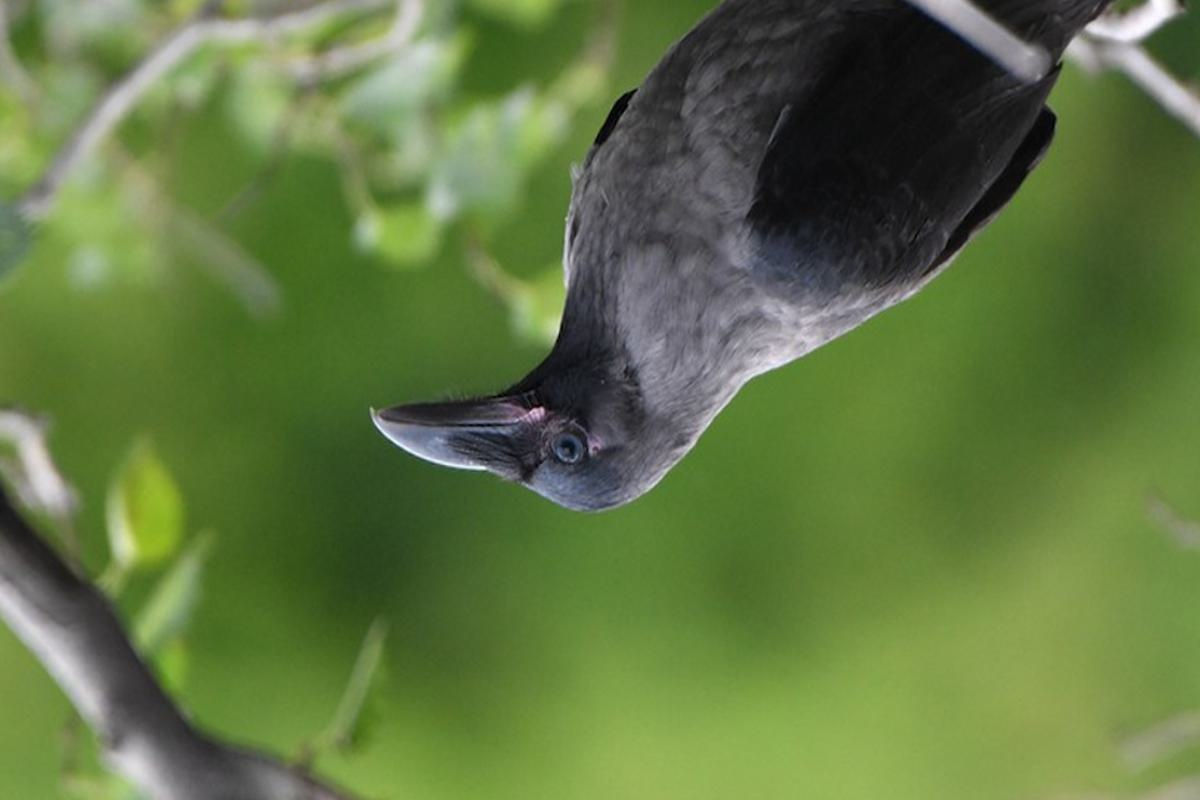crow: (366, 1, 1122, 521)
